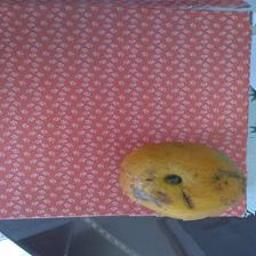Orange Semifresh: (115, 132, 256, 234)
